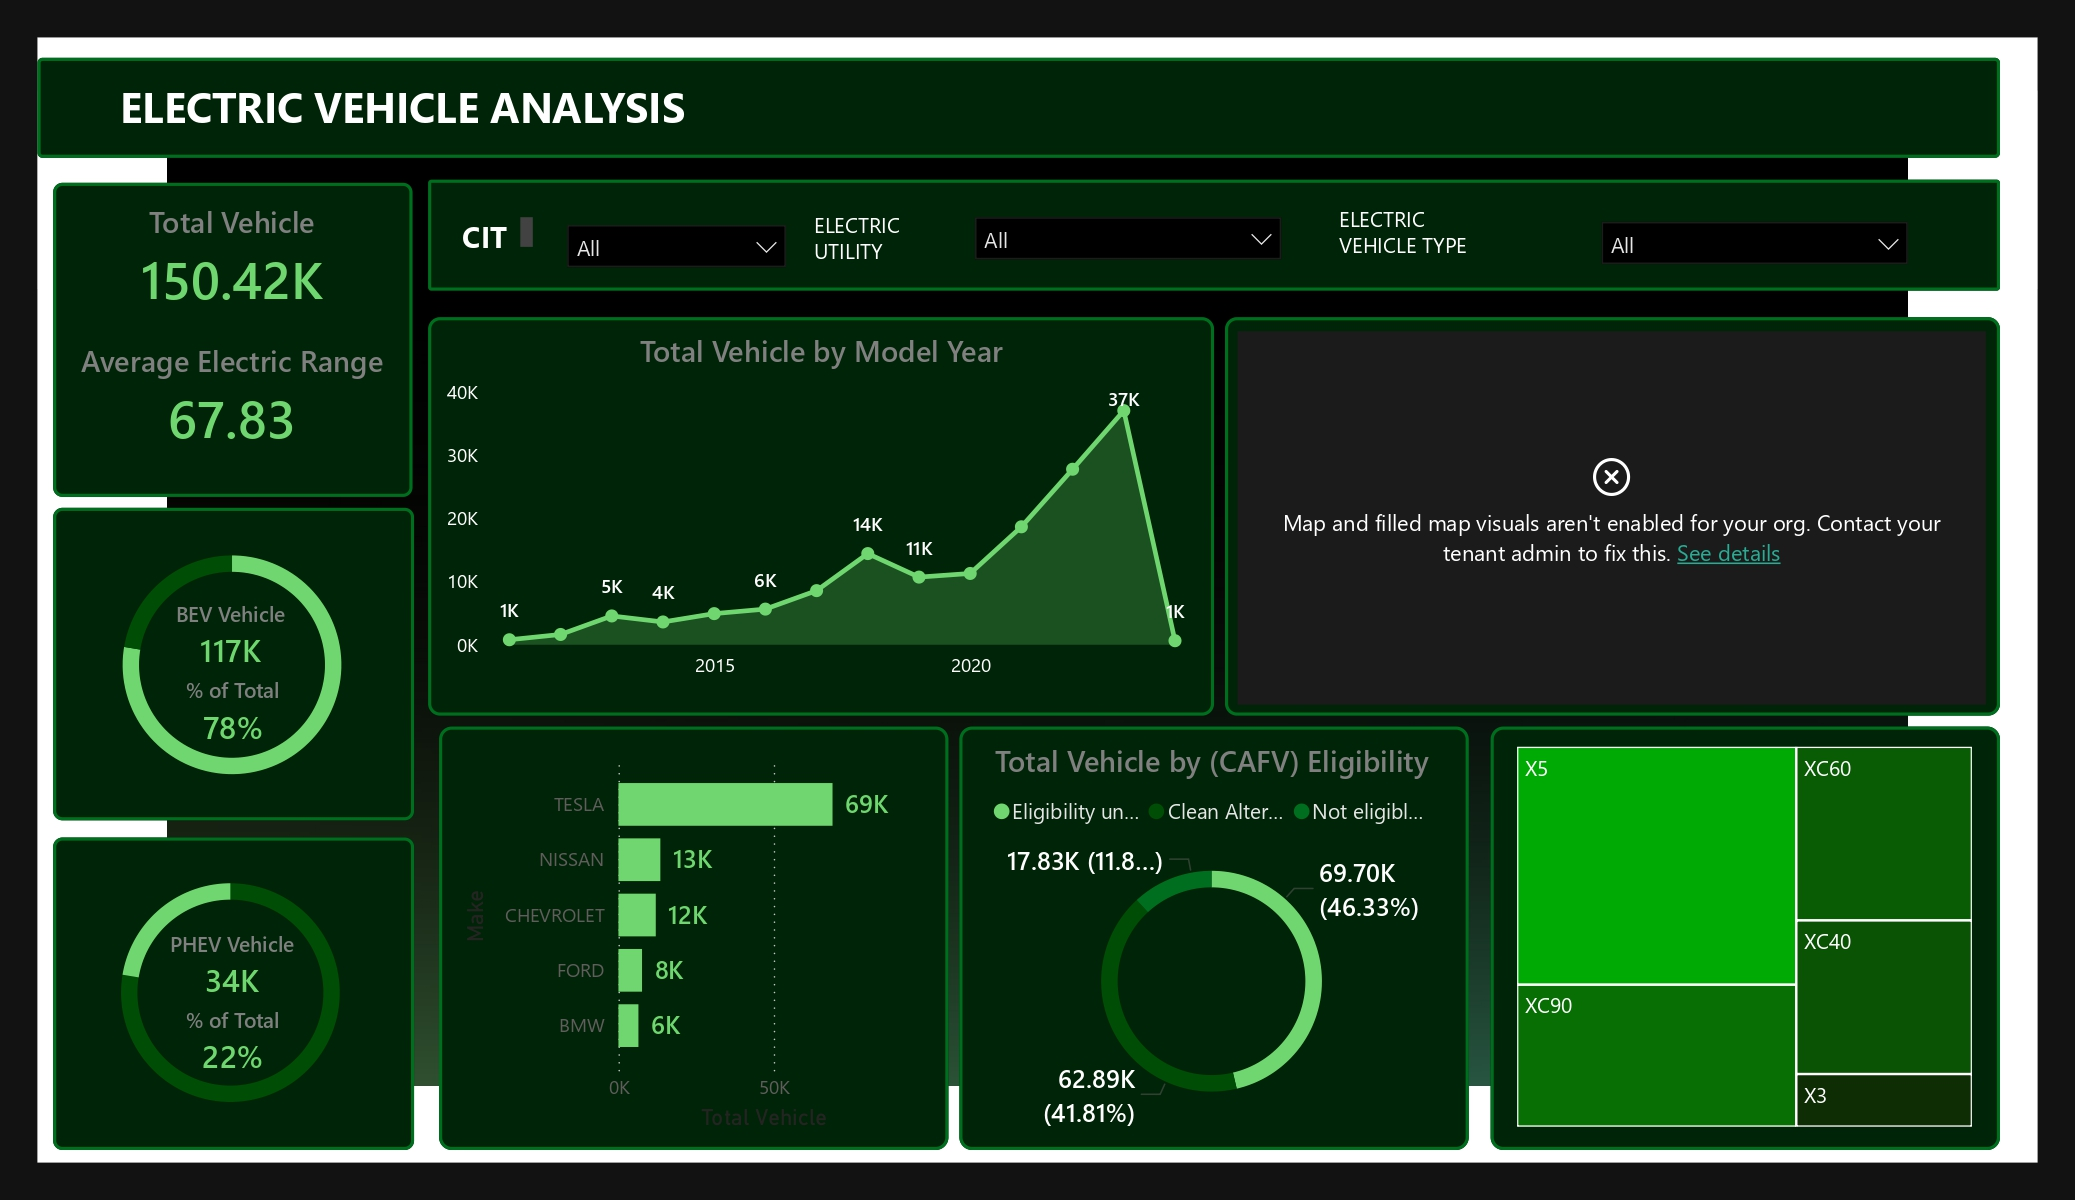

This screenshot's page, from the dashboard's own definition file:
{"tool":"powerbi","page":{"name":"Page 1","canvas":[1280,720],"ordinal":0},"visuals":[{"type":"shape","box":[0,12.7,1256.4,64.5],"z":0},{"type":"textbox","box":[47.7,21.4,461,55.4],"z":1},{"type":"shape","box":[9.7,93.4,230.5,200.4],"z":2},{"type":"card","title":"Total Vehicle","fields":{"Values":["Electric_Vehicle_Population_Data.Total Vehicle"]},"box":[18.9,105,211,73.6],"z":3},{"type":"card","title":"Average Electric Range","fields":{"Values":["Avg(Electric_Vehicle_Population_Data.Electric Range)"]},"box":[18.9,193.9,211,73.6],"z":4},{"type":"shape","box":[9.9,300.7,230.7,200.2],"z":5},{"type":"shape","box":[9.9,511.7,230.7,200.2],"z":6},{"type":"donutChart","fields":{"Category":["Electric_Vehicle_Population_Data.Electric Vehicle Type"],"Y":["Electric_Vehicle_Population_Data.Total Vehicle"]},"box":[18.9,308.8,211,184.9],"z":7},{"type":"card","title":"BEV Vehicle","fields":{"Values":["Electric_Vehicle_Population_Data.BEV Vehicle"]},"box":[18.3,360,210.8,49.2],"z":8},{"type":"card","title":"% of Total","fields":{"Values":["Electric_Vehicle_Population_Data.% of BEV"]},"box":[24.5,409.1,200.9,49.1],"z":9},{"type":"donutChart","fields":{"Category":["Electric_Vehicle_Population_Data.Electric Vehicle Type"],"Y":["Electric_Vehicle_Population_Data.Total Vehicle"]},"box":[18.2,519.1,210.9,184.5],"z":10},{"type":"card","title":"PHEV Vehicle","fields":{"Values":["Electric_Vehicle_Population_Data.PHEV Vehicle"]},"box":[19.1,570.9,210.9,49.1],"z":11},{"type":"card","title":"% of Total","fields":{"Values":["Electric_Vehicle_Population_Data.% of PHEV"]},"box":[24.5,620,200.9,49.1],"z":12},{"type":"shape","box":[249.6,90.7,1006.4,71.8],"z":13},{"type":"shape","box":[250,179.1,502.7,254.5],"z":14},{"type":"shape","box":[760,179.1,496.4,254.5],"z":15},{"type":"areaChart","fields":{"Category":["Electric_Vehicle_Population_Data.Model Year"],"Y":["Electric_Vehicle_Population_Data.Total Vehicle"]},"box":[257.3,188.2,489.1,231.8],"z":16},{"type":"map","fields":{"Category":["Electric_Vehicle_Population_Data.State"]},"box":[768.2,188.2,479.1,239.1],"z":17},{"type":"shape","box":[257,441,326,271],"z":18},{"type":"barChart","fields":{"Category":["Electric_Vehicle_Population_Data.Make"],"Y":["Electric_Vehicle_Population_Data.Total Vehicle"]},"box":[267,450,306,254],"z":19},{"type":"shape","box":[590,441,326,271],"z":20},{"type":"shape","box":[930,441,326,271],"z":21},{"type":"donutChart","title":"Total Vehicle by  (CAFV) Eligibility","fields":{"Category":["Electric_Vehicle_Population_Data.Clean Alternative Fuel Vehicle (CAFV) Eligibility"],"Y":["Electric_Vehicle_Population_Data.Total Vehicle"]},"box":[601.5,449.8,300.7,254.1],"z":22},{"type":"treemap","fields":{"Values":["Electric_Vehicle_Population_Data.Total Vehicle"],"Group":["Electric_Vehicle_Population_Data.Model"]},"box":[942.5,449.4,300.5,252.9],"z":23},{"type":"slicer","fields":{"Values":["Electric_Vehicle_Population_Data.City"]},"box":[328.6,109.5,160.7,42.2],"z":24},{"type":"textbox","box":[266.6,109.5,55.7,40.4],"z":25},{"type":"slicer","fields":{"Values":["Electric_Vehicle_Population_Data.Electric Utility"]},"box":[589.8,105,216.4,42.2],"z":26},{"type":"textbox","box":[492,105.9,109.5,50.3],"z":27},{"type":"slicer","fields":{"Values":["Electric_Vehicle_Population_Data.Electric Vehicle Type"]},"box":[991.1,107.7,216.4,39.5],"z":28},{"type":"textbox","box":[827.9,102.5,109.5,50.3],"z":29}]}

Visuals, with their boxes in screenshot pixels (x1, y1, x2, y2):
shape: {"x1": 38, "y1": 57, "x2": 2001, "y2": 158}
textbox: {"x1": 112, "y1": 71, "x2": 832, "y2": 158}
shape: {"x1": 53, "y1": 183, "x2": 413, "y2": 497}
"Total Vehicle" card: {"x1": 67, "y1": 202, "x2": 397, "y2": 317}
"Average Electric Range" card: {"x1": 67, "y1": 340, "x2": 397, "y2": 455}
shape: {"x1": 53, "y1": 507, "x2": 413, "y2": 820}
shape: {"x1": 53, "y1": 837, "x2": 413, "y2": 1150}
donutChart - Electric_Vehicle_Population_Data.Electric Vehicle Type x Electric_Vehicle_Population_Data.Total Vehicle: {"x1": 67, "y1": 520, "x2": 397, "y2": 809}
"BEV Vehicle" card: {"x1": 66, "y1": 600, "x2": 395, "y2": 677}
"% of Total" card: {"x1": 76, "y1": 677, "x2": 390, "y2": 753}
donutChart - Electric_Vehicle_Population_Data.Electric Vehicle Type x Electric_Vehicle_Population_Data.Total Vehicle: {"x1": 66, "y1": 849, "x2": 395, "y2": 1137}
"PHEV Vehicle" card: {"x1": 67, "y1": 930, "x2": 397, "y2": 1006}
"% of Total" card: {"x1": 76, "y1": 1006, "x2": 390, "y2": 1083}
shape: {"x1": 428, "y1": 179, "x2": 2000, "y2": 291}
shape: {"x1": 428, "y1": 317, "x2": 1214, "y2": 715}
shape: {"x1": 1225, "y1": 317, "x2": 2001, "y2": 715}
areaChart - Electric_Vehicle_Population_Data.Model Year x Electric_Vehicle_Population_Data.Total Vehicle: {"x1": 440, "y1": 332, "x2": 1204, "y2": 694}
map - Electric_Vehicle_Population_Data.State: {"x1": 1238, "y1": 332, "x2": 1986, "y2": 705}
shape: {"x1": 439, "y1": 727, "x2": 948, "y2": 1150}
barChart - Electric_Vehicle_Population_Data.Make x Electric_Vehicle_Population_Data.Total Vehicle: {"x1": 455, "y1": 741, "x2": 933, "y2": 1138}
shape: {"x1": 959, "y1": 727, "x2": 1469, "y2": 1150}
shape: {"x1": 1491, "y1": 727, "x2": 2000, "y2": 1150}
"Total Vehicle by  (CAFV) Eligibility" donutChart: {"x1": 977, "y1": 740, "x2": 1447, "y2": 1137}
treemap - Electric_Vehicle_Population_Data.Total Vehicle x Electric_Vehicle_Population_Data.Model: {"x1": 1510, "y1": 740, "x2": 1980, "y2": 1135}
slicer - Electric_Vehicle_Population_Data.City: {"x1": 551, "y1": 209, "x2": 802, "y2": 275}
textbox: {"x1": 454, "y1": 209, "x2": 541, "y2": 272}
slicer - Electric_Vehicle_Population_Data.Electric Utility: {"x1": 959, "y1": 202, "x2": 1297, "y2": 268}
textbox: {"x1": 806, "y1": 203, "x2": 977, "y2": 282}
slicer - Electric_Vehicle_Population_Data.Electric Vehicle Type: {"x1": 1586, "y1": 206, "x2": 1924, "y2": 268}
textbox: {"x1": 1331, "y1": 198, "x2": 1502, "y2": 276}
